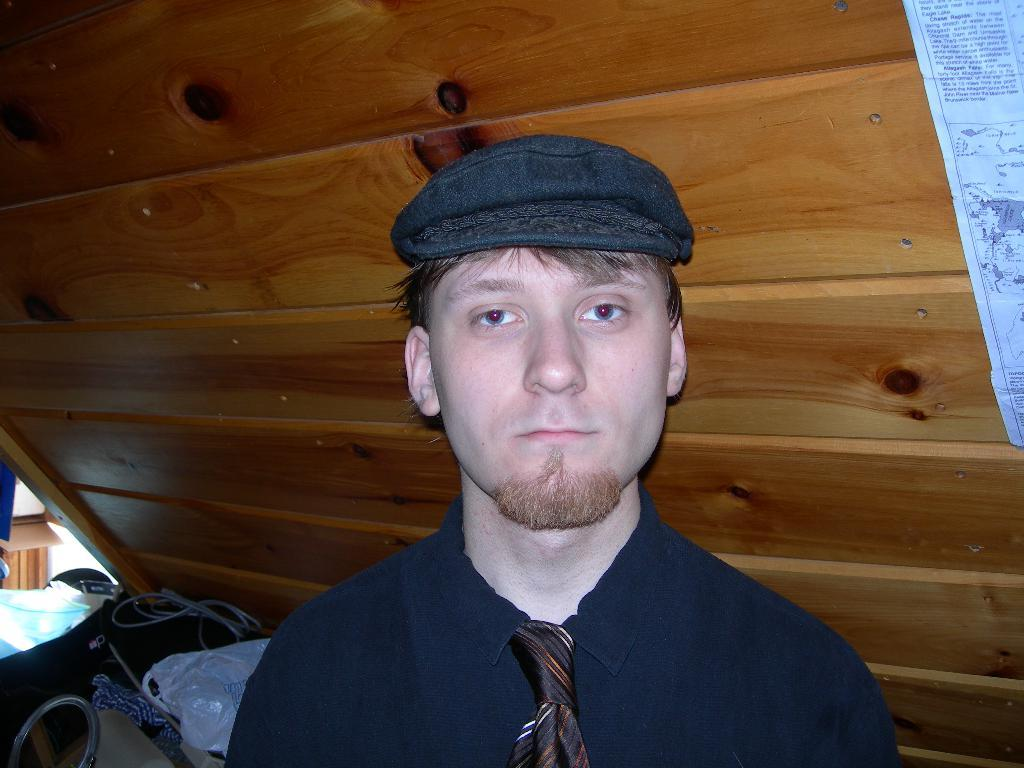Hat: (390, 134, 693, 260)
